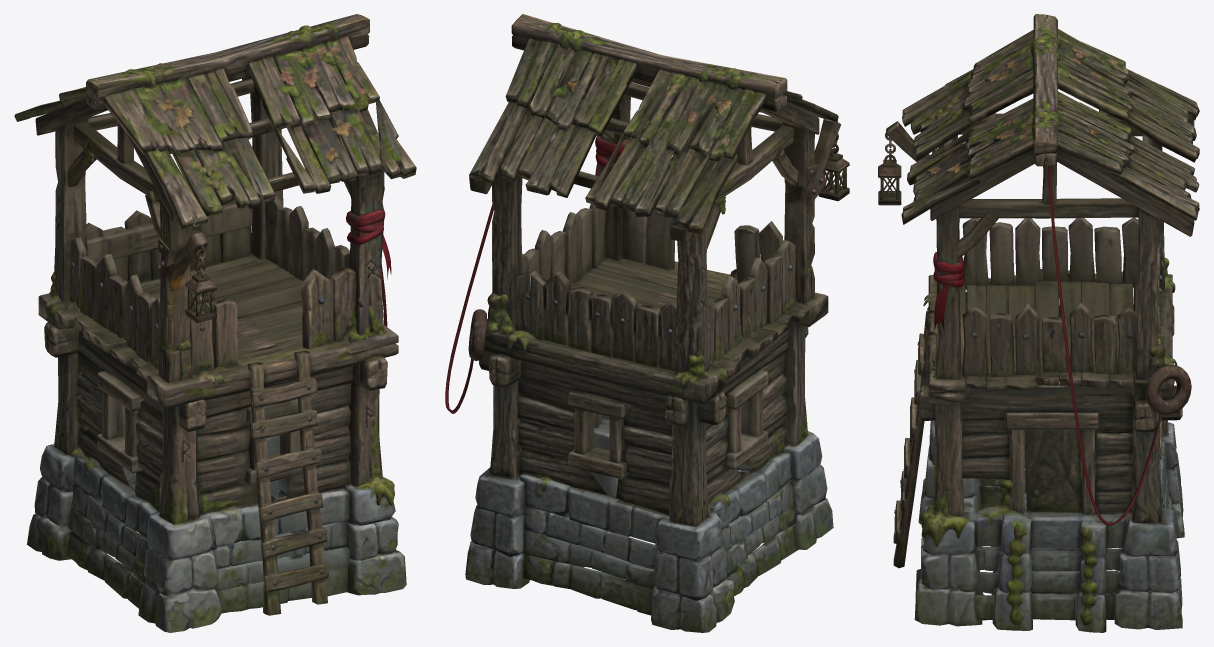
The model's file is tower.glb.
3 renders of one model, left to right at view 1: azimuth 30°, elevation 25°; view 2: azimuth 150°, elevation 25°; view 3: azimuth 270°, elevation 25°, orthographic. The views are drawn at different scales.
Visible parts, largest first — view 1: tower_0; view 2: tower_0; view 3: tower_0.
Boxes of the visible parts, x1,y1,x2,y2 form: tower_0: (14, 14, 416, 632); tower_0: (445, 14, 849, 632); tower_0: (878, 14, 1199, 632).
Size of the model in its own units: 0.6343 by 0.9995 by 0.5796.
Materials: 1 (1 with a texture image).
